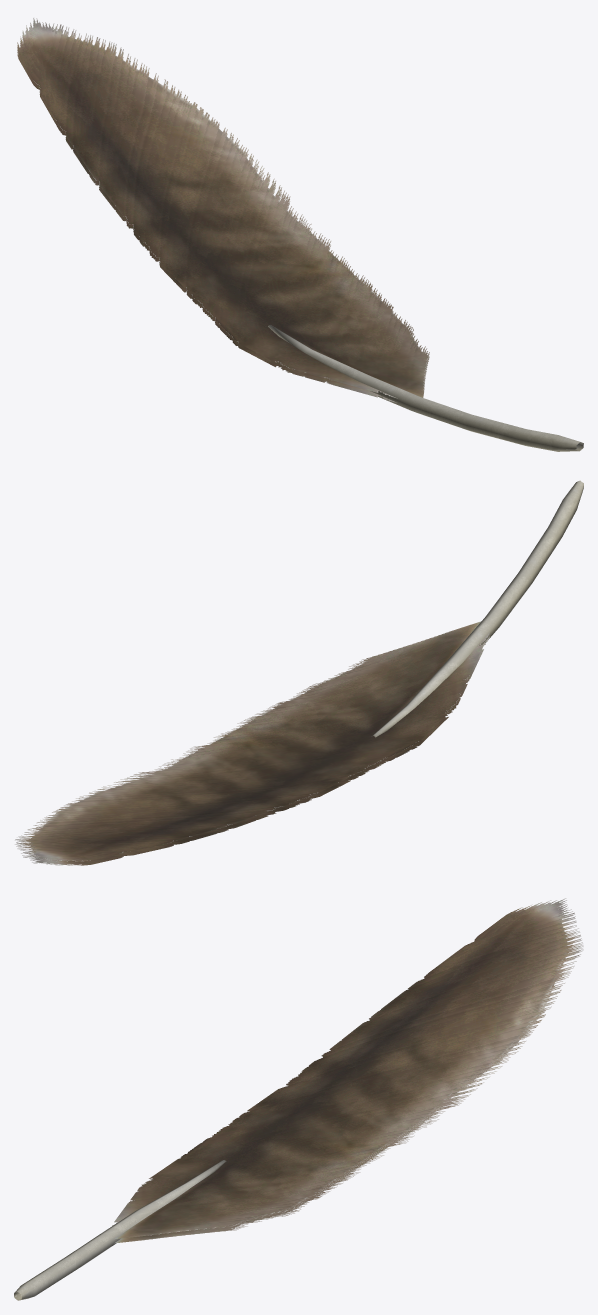
File: SM_EagleFeather_GLB_1.glb
3 views of the same model, one above another, from view 1: azimuth 30°, elevation 25°; view 2: azimuth 150°, elevation 25°; view 3: azimuth 330°, elevation 25° (orthographic). The views are drawn at different scales.
Parts seen in each view (by area): view 1: SM_EagleFeather_1; view 2: SM_EagleFeather_1; view 3: SM_EagleFeather_1.
Boxes of the visible parts, left/top/right/bottom form: SM_EagleFeather_1: left=17, top=18, right=583, bottom=451; SM_EagleFeather_1: left=15, top=480, right=583, bottom=865; SM_EagleFeather_1: left=14, top=898, right=583, bottom=1300.
Bounding box in the file's own units: 0.0633 × 0.0274 × 0.3453.
Materials: 1 (1 with a texture image).
